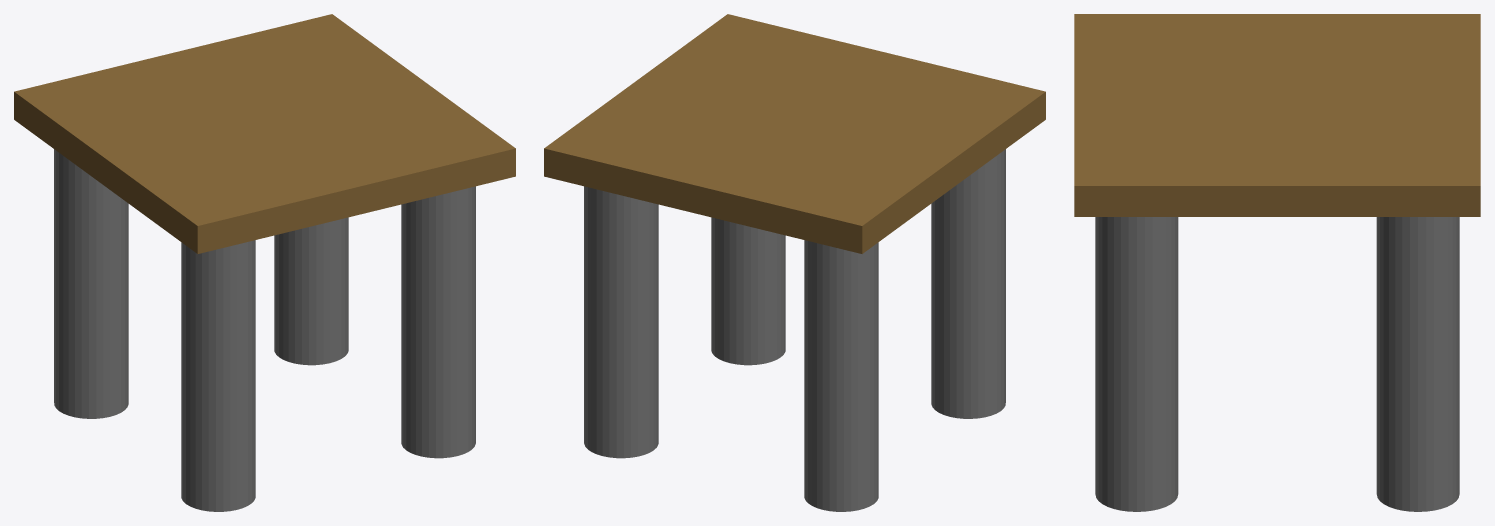
Rendered from mesa.glb.
3 renders of one model, left to right at view 1: azimuth 30°, elevation 25°; view 2: azimuth 150°, elevation 25°; view 3: azimuth 270°, elevation 25°, orthographic. The views are drawn at different scales.
Parts seen in each view (by area): view 1: mesa_alta; view 2: mesa_alta; view 3: mesa_alta.
Part boxes in pixels (left/top/right/bottom): mesa_alta: left=14, top=14, right=515, bottom=511; mesa_alta: left=544, top=14, right=1045, bottom=511; mesa_alta: left=1074, top=14, right=1480, bottom=511.
Size of the model in its own units: 4.91 by 4.47 by 4.91.
